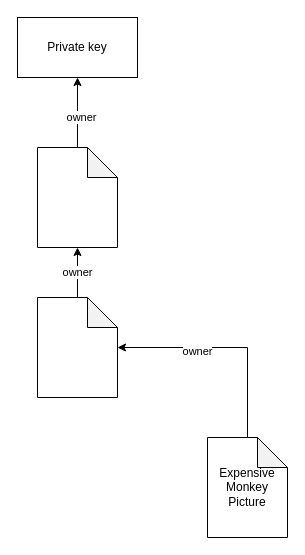
The diagram is 305 pixels wide and 555 high, and some of its shapes have lost their labels. Each missing label, with the centre of its shape:
Account2: Child: (x=77, y=347)
Account2: Root: (x=77, y=197)
